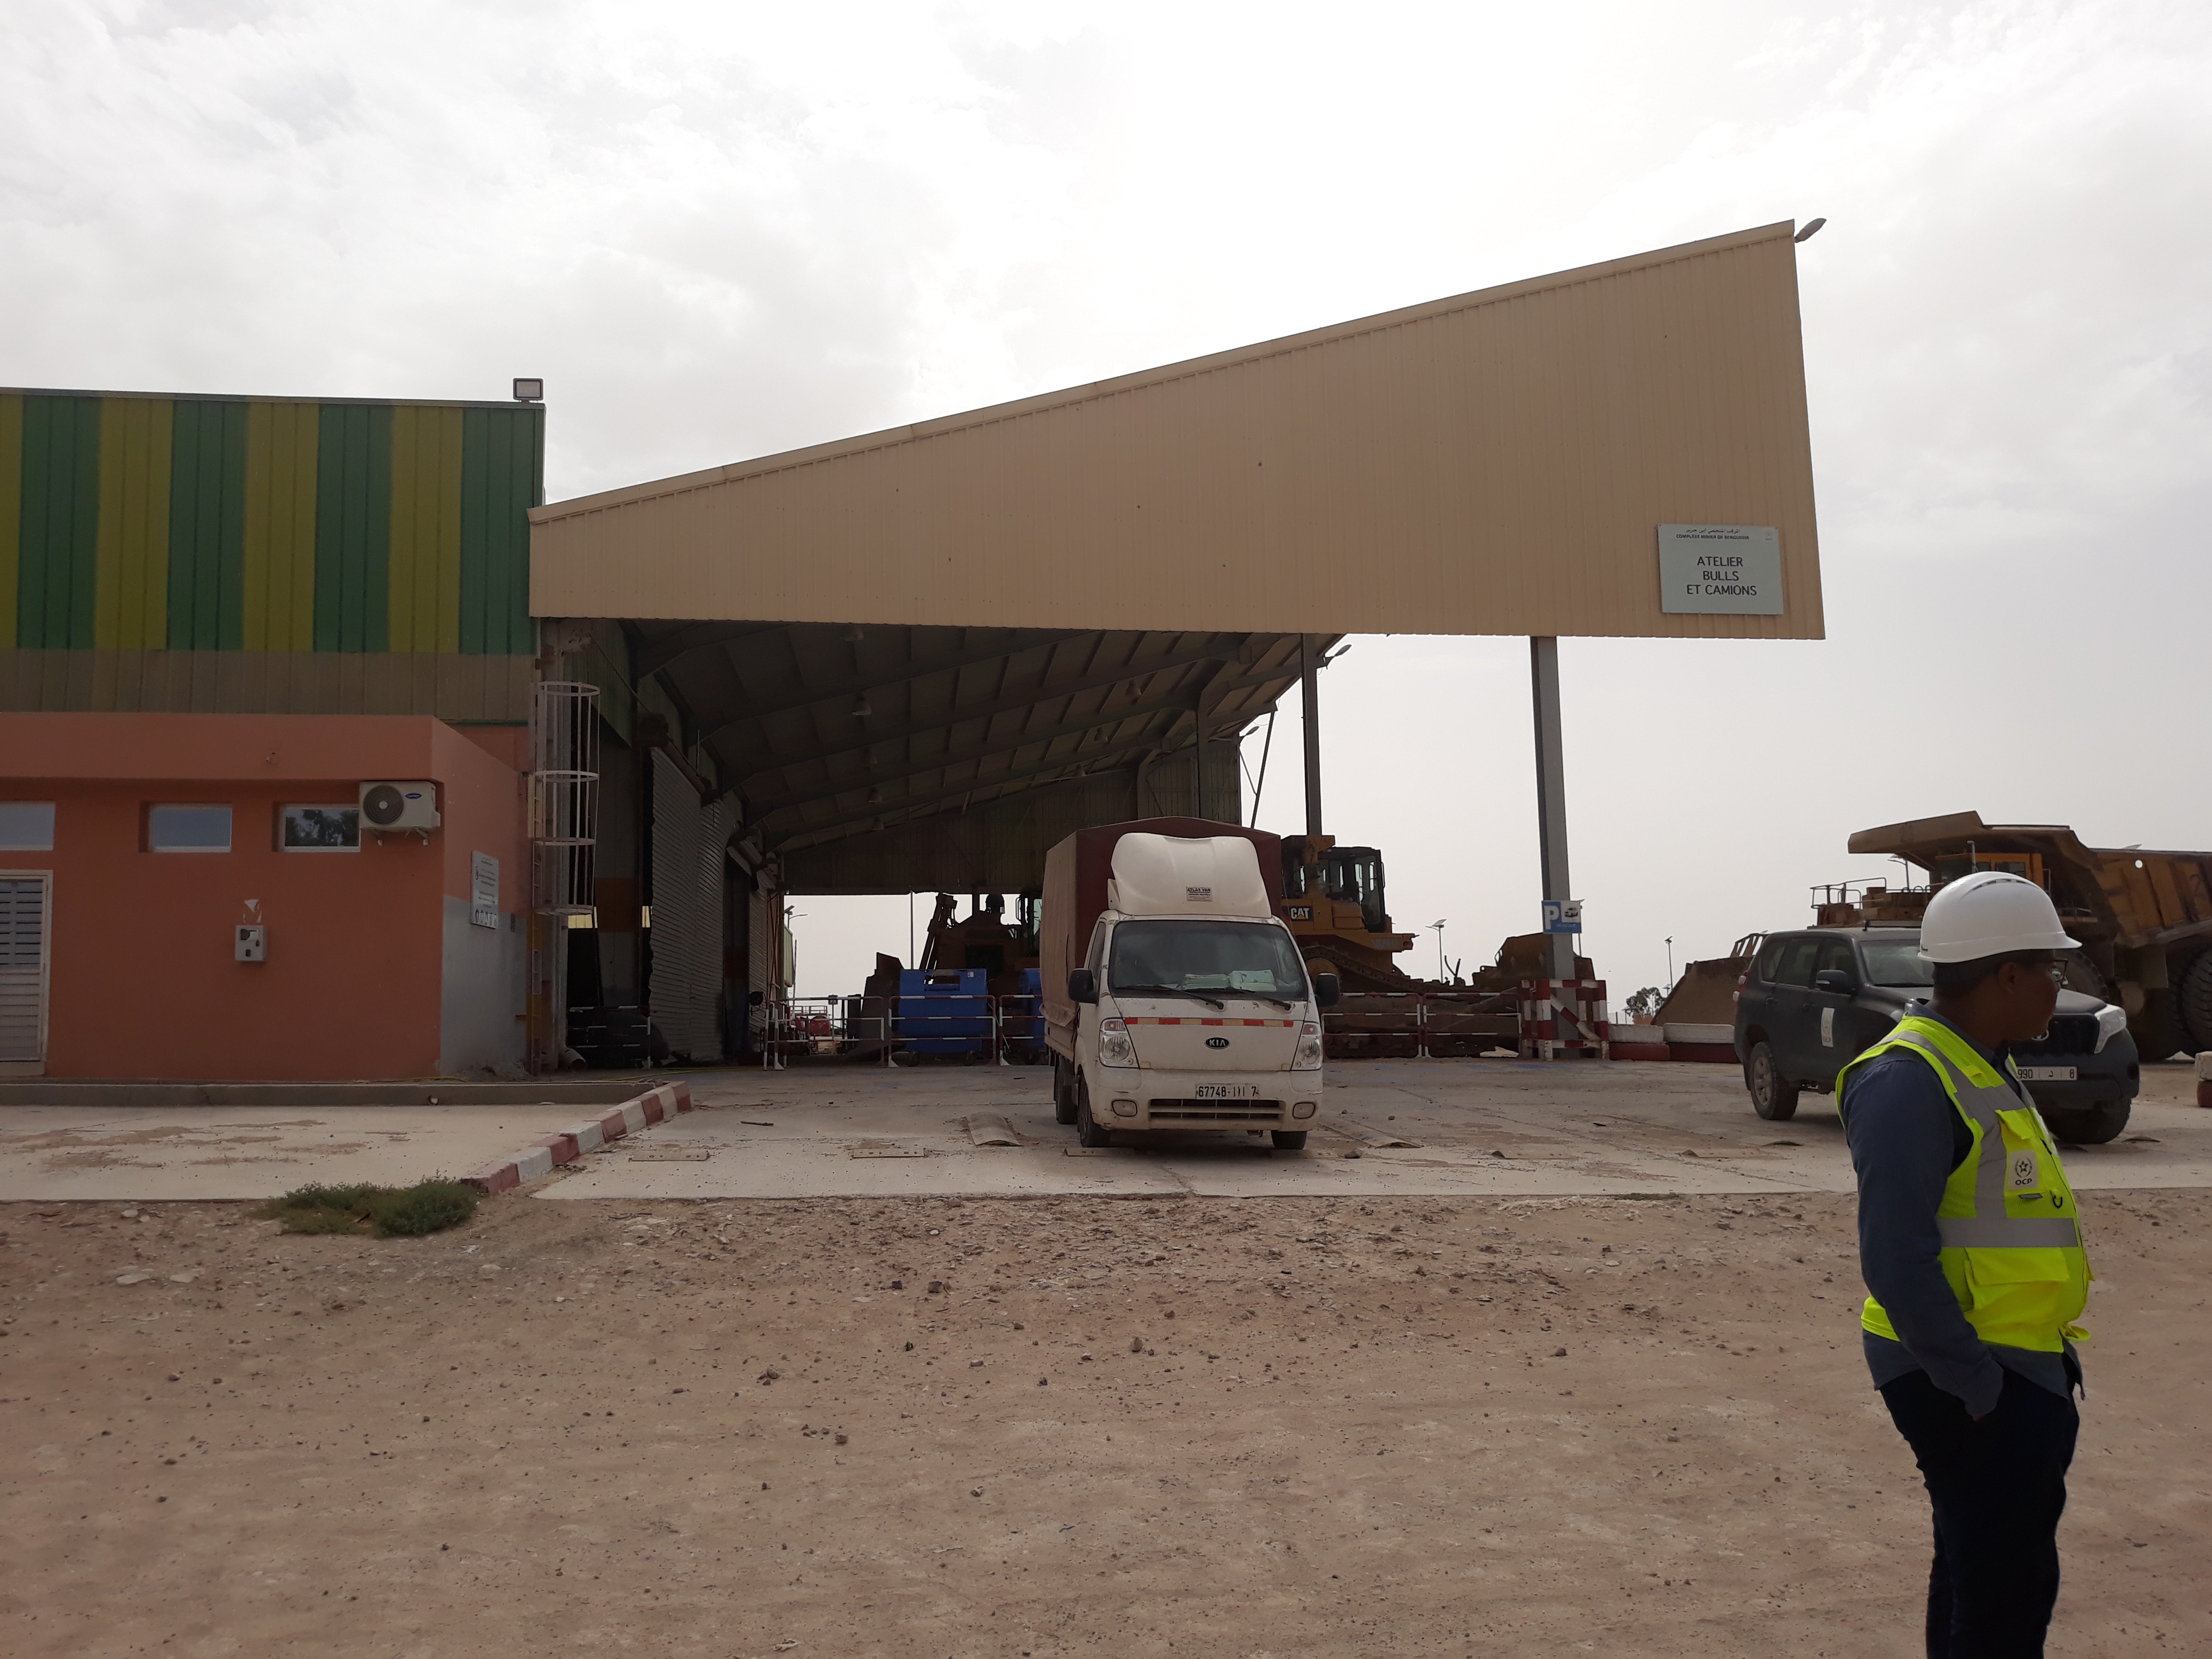camion: (1818, 797, 2212, 1084)
car: (1732, 920, 2165, 1174)
person: (1862, 857, 2124, 1659)
